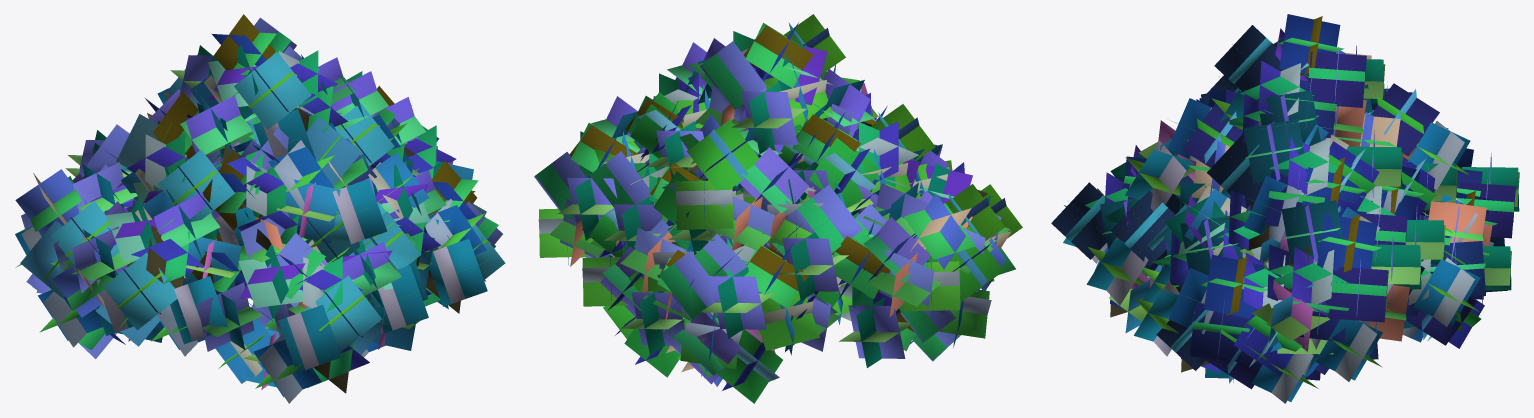
Rendered from nature_tree_green_tall_05_leaves_new.fbx.
3 views of the same model, side by side, from view 1: azimuth 30°, elevation 25°; view 2: azimuth 150°, elevation 25°; view 3: azimuth 270°, elevation 25° (orthographic).
Visible parts, largest first — view 1: nature_tree_green_tall_05_leaves_lod0; view 2: nature_tree_green_tall_05_leaves_lod0; view 3: nature_tree_green_tall_05_leaves_lod0.
Boxes of the visible parts, bbox=[...] form: nature_tree_green_tall_05_leaves_lod0: bbox=[15, 14, 505, 403]; nature_tree_green_tall_05_leaves_lod0: bbox=[534, 14, 1022, 403]; nature_tree_green_tall_05_leaves_lod0: bbox=[1051, 14, 1519, 403].
Size of what is drawn, in the model's own units: 1990 by 1379 by 1837.
